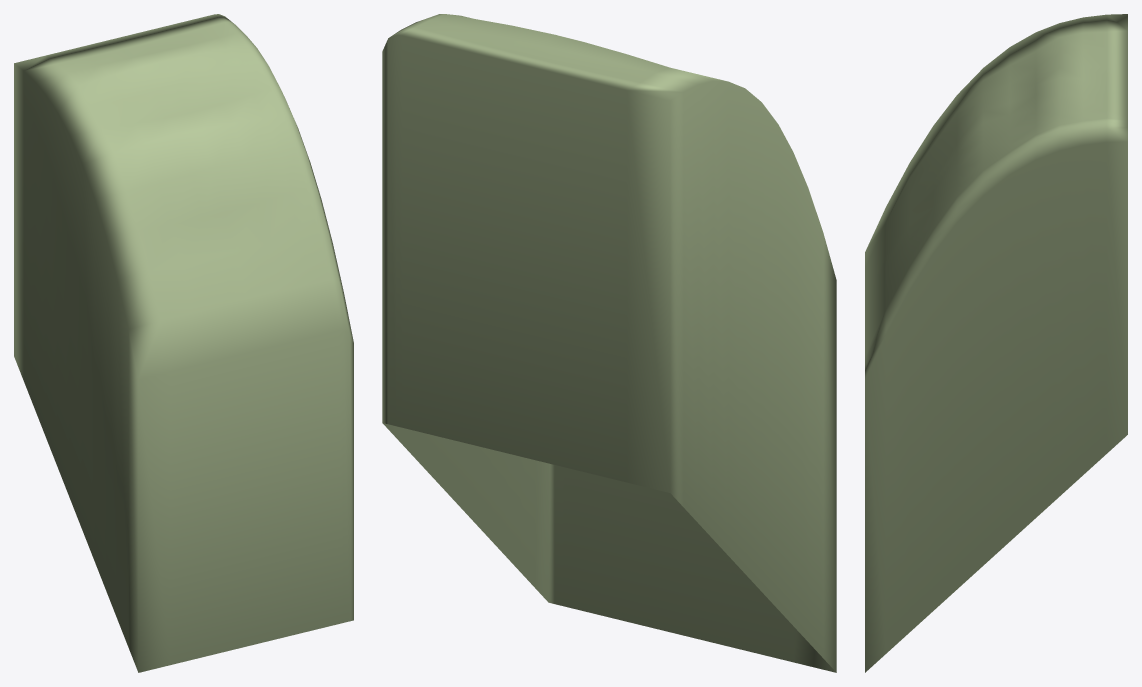
File: ground-ramp-r-32.glb
The picture shows the model from 3 angles, left to right: view 1: azimuth 30°, elevation 25°; view 2: azimuth 150°, elevation 25°; view 3: azimuth 270°, elevation 25°; orthographic projection. The views are drawn at different scales.
Visible parts, largest first — view 1: ground-ramp-r-32; view 2: ground-ramp-r-32; view 3: ground-ramp-r-32.
Boxes of the visible parts, x1,y1,x2,y2 form: ground-ramp-r-32: (14, 14, 353, 672); ground-ramp-r-32: (382, 14, 836, 672); ground-ramp-r-32: (865, 14, 1127, 672).
Bounding box in the file's own units: 1 × 2.3 × 1.
